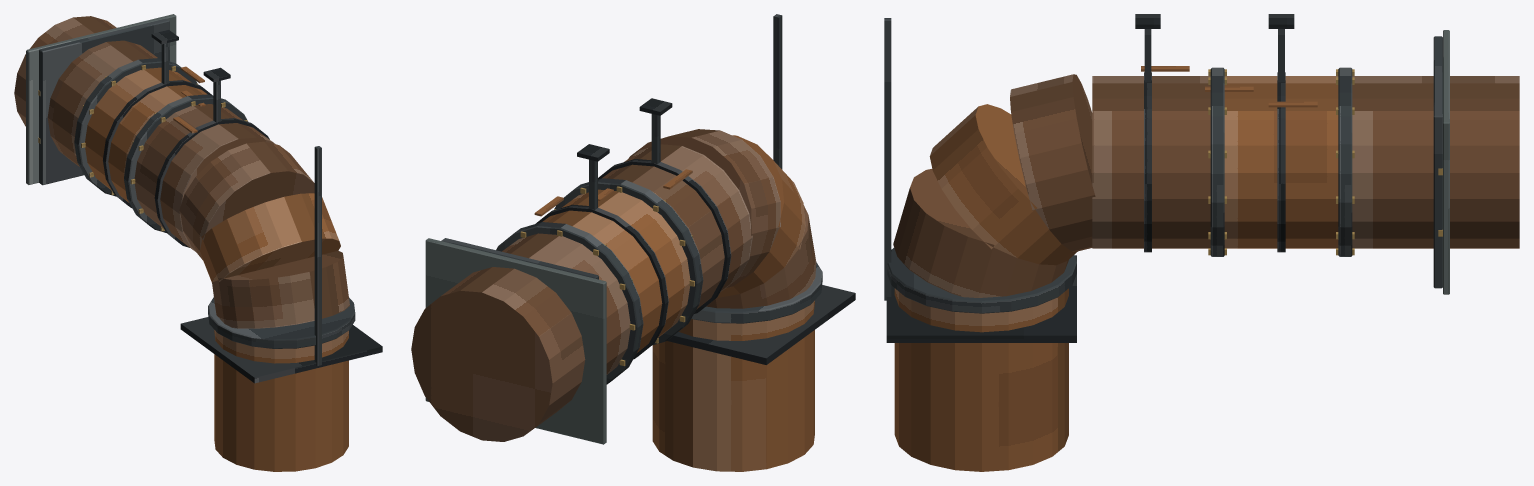
Rendered from sewer_outflow_pipe.glb.
The picture shows the model from 3 angles, left to right: view 1: azimuth 30°, elevation 25°; view 2: azimuth 150°, elevation 25°; view 3: azimuth 270°, elevation 25°; orthographic projection. The views are drawn at different scales.
Visible parts, largest first — view 1: Drop, Elbow1, Elbow0, Elbow2, Barrel2, Barrel0, Barrel1, WallFlange, DropBand, DropFlange, WallPlate, FlangeB (+4 smaller); view 2: Barrel0, Drop, WallPlate, Barrel2, Barrel1, Elbow0, Elbow1, DropBand, FlangeA, Elbow2, FlangeB, DropFlange (+5 smaller); view 3: Barrel0, Drop, Barrel2, Barrel1, Elbow1, Elbow0, Elbow2, DropBand, DropFlange, FlangeA, FlangeB, WallFlange (+4 smaller).
Boxes of the visible parts, x1,y1,x2,y2 form: Drop: (214,330,348,471); Elbow1: (200,193,340,282); Elbow0: (179,141,314,259); Elbow2: (212,250,349,328); Barrel2: (134,104,275,251); Barrel0: (14,16,157,166); Barrel1: (85,67,207,202); WallFlange: (39,18,169,185); DropBand: (180,317,382,383); DropFlange: (208,297,355,348); WallPlate: (26,14,176,184); FlangeB: (124,94,248,232); Barrel0: (411,233,630,441); Drop: (652,300,814,471); WallPlate: (425,238,606,444); Barrel2: (602,144,752,309); Barrel1: (542,189,690,352); Elbow0: (628,129,780,288); Elbow1: (717,135,805,297); DropBand: (667,285,855,364); FlangeA: (496,222,643,384); Elbow2: (706,205,816,308); FlangeB: (554,178,703,345); DropFlange: (691,262,822,323); Barrel0: (1352,76,1519,248); Drop: (894,288,1068,471); Barrel2: (1092,76,1210,248); Barrel1: (1224,76,1338,248); Elbow1: (929,104,1077,265); Elbow0: (1010,74,1095,251); Elbow2: (893,169,1068,297); DropBand: (886,255,1076,342); DropFlange: (887,248,1076,313); FlangeA: (1338,67,1352,256); FlangeB: (1210,67,1224,256); WallFlange: (1433,36,1442,288).
Size of the model in its own units: 1.9 by 3.95 by 5.47.
Materials: 3 (3 with a texture image).
